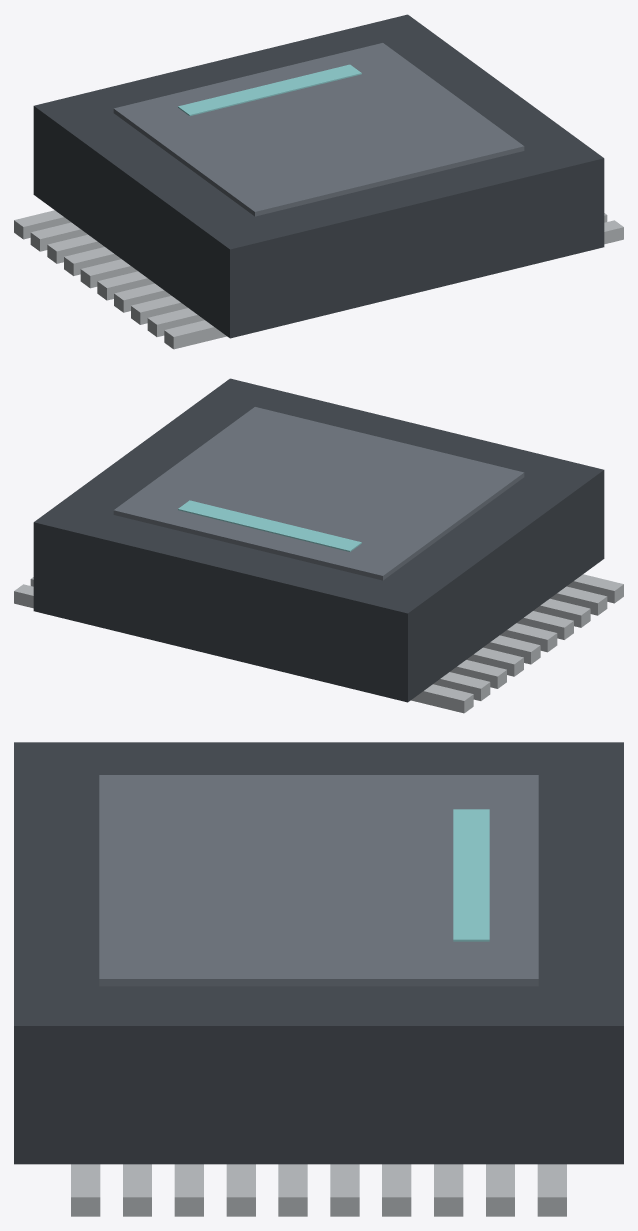
The picture shows the model from 3 angles, top to bottom: view 1: azimuth 30°, elevation 25°; view 2: azimuth 150°, elevation 25°; view 3: azimuth 270°, elevation 25°; orthographic projection. The views are drawn at different scales.
Parts seen in each view (by area): view 1: 000_Black_Epoxy__PSMAT__Black_Epoxy, 001_Silicon_Die__PSMAT__Silicon_Die, 002_Silkscreen_Cyan__PSMAT__Silkscreen_Cyan, 022_Solder_Tin__PSMAT__Solder_Tin, 006_Solder_Tin__PSMAT__Solder_Tin, 012_Solder_Tin__PSMAT__Solder_Tin, 020_Solder_Tin__PSMAT__Solder_Tin, 014_Solder_Tin__PSMAT__Solder_Tin, 008_Solder_Tin__PSMAT__Solder_Tin, 010_Solder_Tin__PSMAT__Solder_Tin, 004_Solder_Tin__PSMAT__Solder_Tin, 016_Solder_Tin__PSMAT__Solder_Tin (+1 smaller); view 2: 000_Black_Epoxy__PSMAT__Black_Epoxy, 001_Silicon_Die__PSMAT__Silicon_Die, 002_Silkscreen_Cyan__PSMAT__Silkscreen_Cyan, 004_Solder_Tin__PSMAT__Solder_Tin, 020_Solder_Tin__PSMAT__Solder_Tin, 014_Solder_Tin__PSMAT__Solder_Tin, 006_Solder_Tin__PSMAT__Solder_Tin, 012_Solder_Tin__PSMAT__Solder_Tin, 018_Solder_Tin__PSMAT__Solder_Tin, 016_Solder_Tin__PSMAT__Solder_Tin, 010_Solder_Tin__PSMAT__Solder_Tin, 022_Solder_Tin__PSMAT__Solder_Tin (+1 smaller); view 3: 000_Black_Epoxy__PSMAT__Black_Epoxy, 001_Silicon_Die__PSMAT__Silicon_Die, 002_Silkscreen_Cyan__PSMAT__Silkscreen_Cyan, 003_Solder_Tin__PSMAT__Solder_Tin, 007_Solder_Tin__PSMAT__Solder_Tin, 009_Solder_Tin__PSMAT__Solder_Tin, 011_Solder_Tin__PSMAT__Solder_Tin, 013_Solder_Tin__PSMAT__Solder_Tin, 015_Solder_Tin__PSMAT__Solder_Tin, 017_Solder_Tin__PSMAT__Solder_Tin, 021_Solder_Tin__PSMAT__Solder_Tin, 005_Solder_Tin__PSMAT__Solder_Tin (+1 smaller).
Boxes of the visible parts, x1,y1,x2,y2 form: 000_Black_Epoxy__PSMAT__Black_Epoxy: [33, 14, 604, 338]; 001_Silicon_Die__PSMAT__Silicon_Die: [113, 43, 524, 216]; 002_Silkscreen_Cyan__PSMAT__Silkscreen_Cyan: [178, 64, 361, 115]; 022_Solder_Tin__PSMAT__Solder_Tin: [164, 320, 226, 349]; 006_Solder_Tin__PSMAT__Solder_Tin: [30, 222, 87, 251]; 012_Solder_Tin__PSMAT__Solder_Tin: [80, 259, 137, 288]; 020_Solder_Tin__PSMAT__Solder_Tin: [147, 308, 204, 336]; 014_Solder_Tin__PSMAT__Solder_Tin: [97, 271, 154, 300]; 008_Solder_Tin__PSMAT__Solder_Tin: [47, 234, 104, 263]; 010_Solder_Tin__PSMAT__Solder_Tin: [64, 247, 120, 275]; 004_Solder_Tin__PSMAT__Solder_Tin: [14, 210, 70, 239]; 016_Solder_Tin__PSMAT__Solder_Tin: [114, 283, 171, 312]; 000_Black_Epoxy__PSMAT__Black_Epoxy: [33, 378, 604, 702]; 001_Silicon_Die__PSMAT__Silicon_Die: [113, 407, 524, 580]; 002_Silkscreen_Cyan__PSMAT__Silkscreen_Cyan: [178, 500, 361, 551]; 004_Solder_Tin__PSMAT__Solder_Tin: [411, 684, 473, 713]; 020_Solder_Tin__PSMAT__Solder_Tin: [550, 586, 607, 615]; 014_Solder_Tin__PSMAT__Solder_Tin: [500, 623, 557, 652]; 006_Solder_Tin__PSMAT__Solder_Tin: [433, 672, 490, 700]; 012_Solder_Tin__PSMAT__Solder_Tin: [483, 635, 540, 664]; 018_Solder_Tin__PSMAT__Solder_Tin: [533, 598, 590, 627]; 016_Solder_Tin__PSMAT__Solder_Tin: [517, 611, 573, 639]; 010_Solder_Tin__PSMAT__Solder_Tin: [466, 647, 523, 676]; 022_Solder_Tin__PSMAT__Solder_Tin: [567, 574, 623, 603]; 000_Black_Epoxy__PSMAT__Black_Epoxy: [14, 742, 623, 1164]; 001_Silicon_Die__PSMAT__Silicon_Die: [99, 775, 538, 986]; 002_Silkscreen_Cyan__PSMAT__Silkscreen_Cyan: [453, 809, 489, 941]; 003_Solder_Tin__PSMAT__Solder_Tin: [537, 1164, 566, 1216]; 007_Solder_Tin__PSMAT__Solder_Tin: [434, 1164, 463, 1216]; 009_Solder_Tin__PSMAT__Solder_Tin: [382, 1164, 411, 1216]; 011_Solder_Tin__PSMAT__Solder_Tin: [330, 1164, 359, 1216]; 013_Solder_Tin__PSMAT__Solder_Tin: [278, 1164, 307, 1216]; 015_Solder_Tin__PSMAT__Solder_Tin: [226, 1164, 255, 1216]; 017_Solder_Tin__PSMAT__Solder_Tin: [174, 1164, 203, 1216]; 021_Solder_Tin__PSMAT__Solder_Tin: [71, 1164, 100, 1216]; 005_Solder_Tin__PSMAT__Solder_Tin: [486, 1164, 514, 1216].
Bounding box in the file's own units: 0.0132 × 0.0031 × 0.01.
